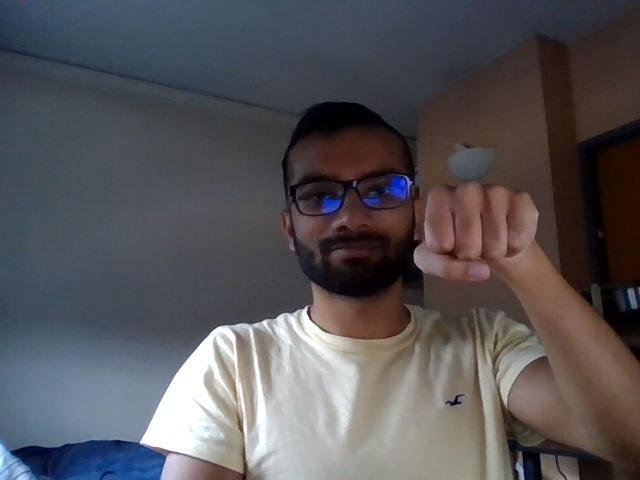Yes: (412, 178, 545, 285)
